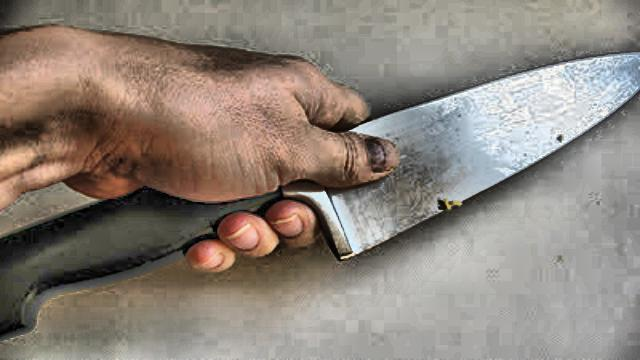knife: (238, 37, 638, 291)
